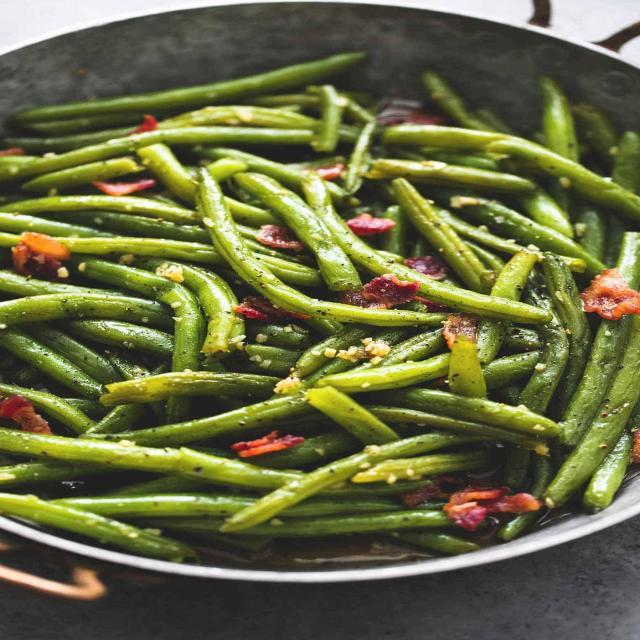Beans: (0, 37, 639, 588)
